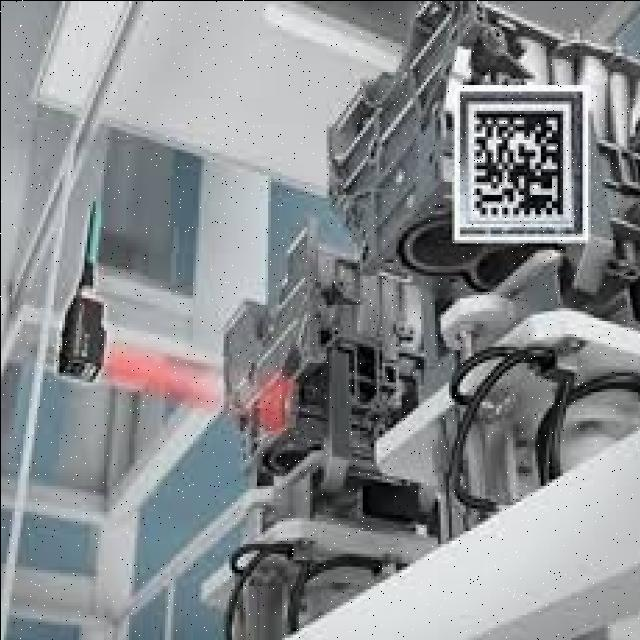datamatrix: (462, 100, 568, 223)
